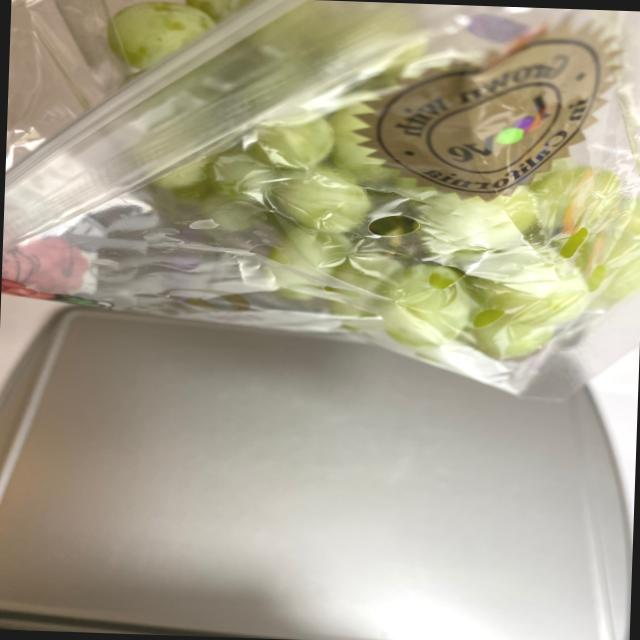grapes: (93, 0, 640, 359)
